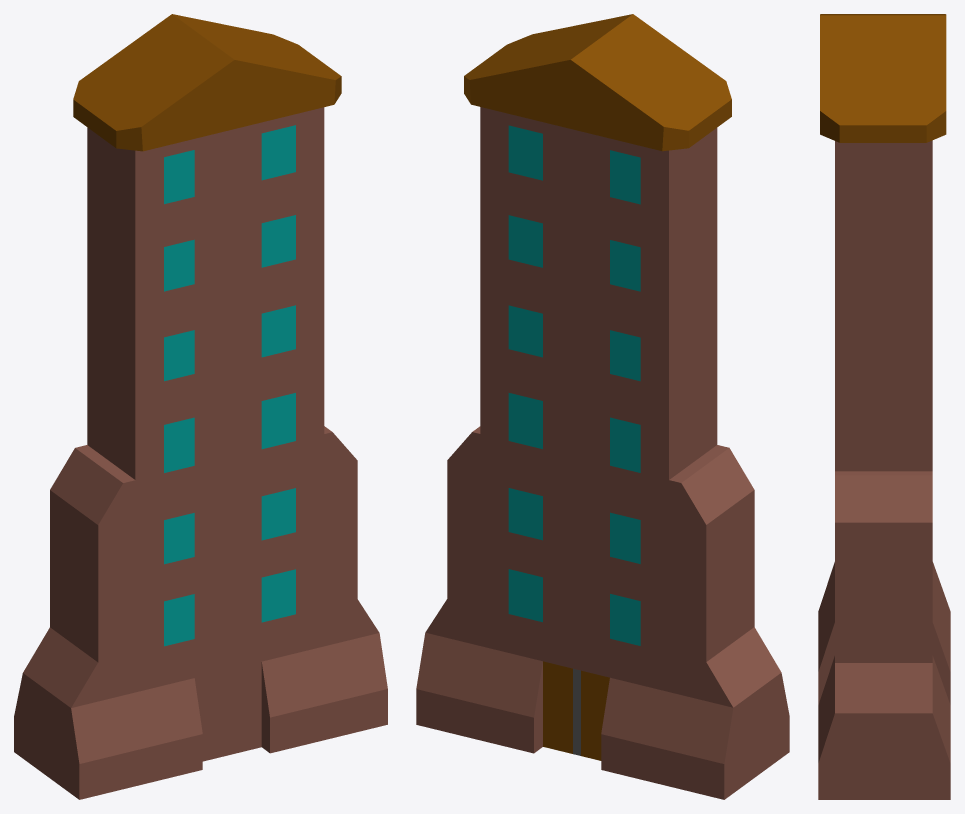
File: Building 3.FBX
The picture shows the model from 3 angles, left to right: view 1: azimuth 30°, elevation 25°; view 2: azimuth 150°, elevation 25°; view 3: azimuth 270°, elevation 25°; orthographic projection.
Parts seen in each view (by area): view 1: Box004; view 2: Box004; view 3: Box004.
Part boxes in pixels (x1=…): Box004: x1=14, y1=14, x2=387, y2=799; Box004: x1=416, y1=14, x2=789, y2=799; Box004: x1=818, y1=14, x2=950, y2=799.
Bounding box in the file's own units: 706 × 1535 × 259.
